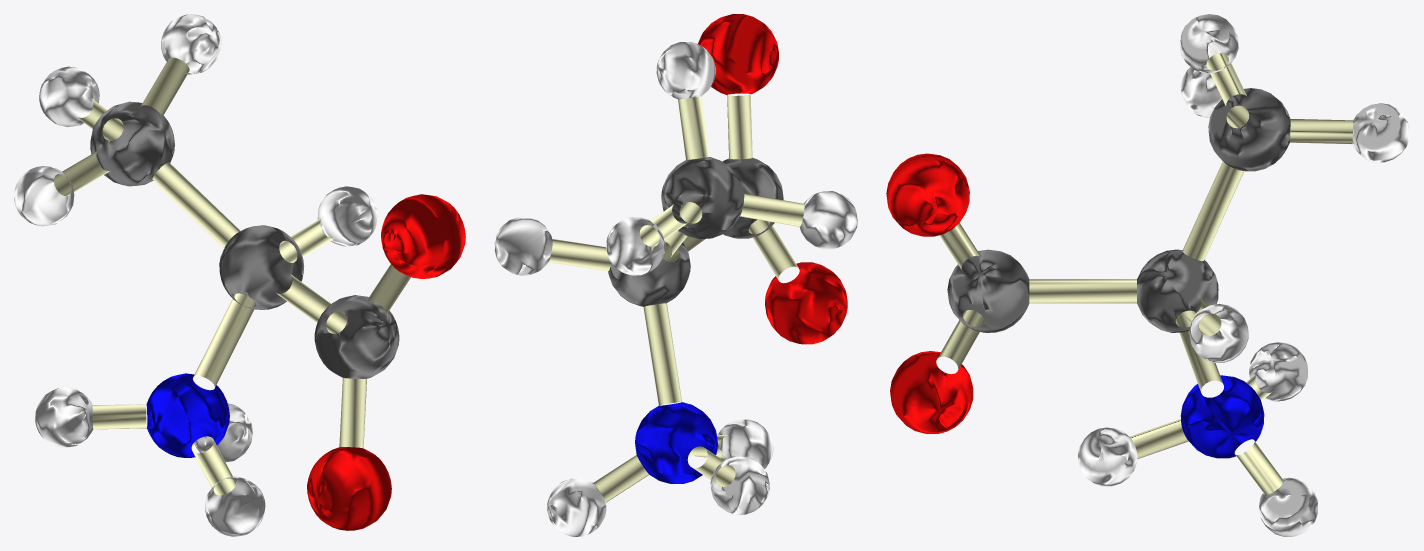
The model's file is alanine.gltf.
The picture shows the model from 3 angles, left to right: view 1: azimuth 30°, elevation 25°; view 2: azimuth 150°, elevation 25°; view 3: azimuth 270°, elevation 25°; orthographic projection. The views are drawn at different scales.
Visible parts, largest first — view 1: ?????????1; view 2: ?????????1; view 3: ?????????1.
Part boxes in pixels (x1,y1,x2,y2): ?????????1: (14,14,465,536); ?????????1: (494,14,857,536); ?????????1: (886,14,1409,536).
Size of the model in its own units: 34.22 by 44.52 by 43.68.
